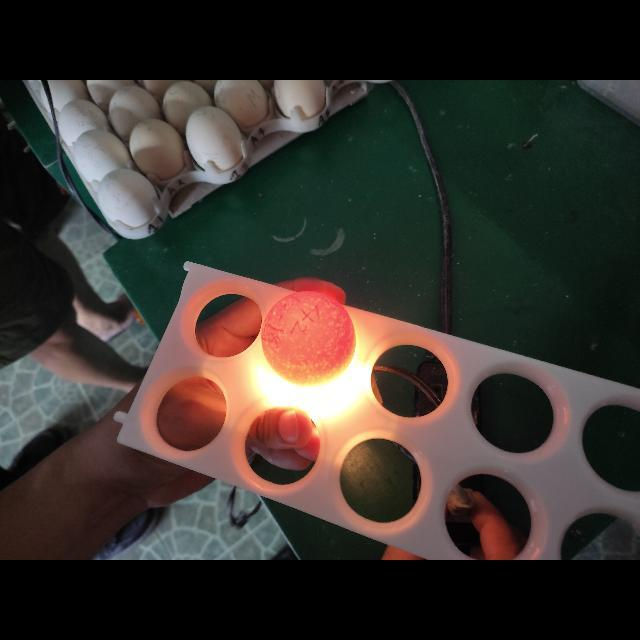Infertile: (238, 274, 364, 392)
